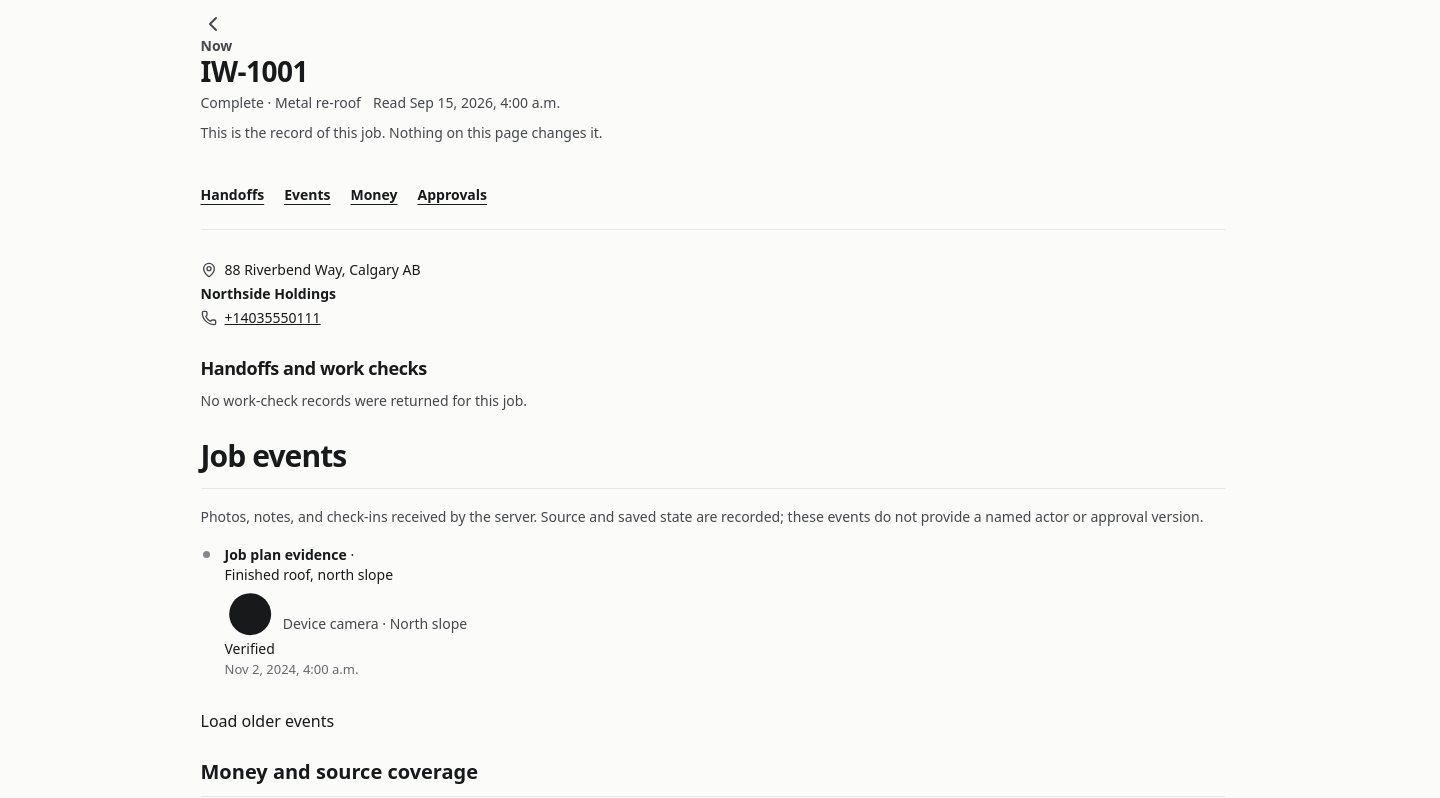
does not splice another job's events into this spine
Click the button "Load older events": (267, 722) [200,710,334,734]
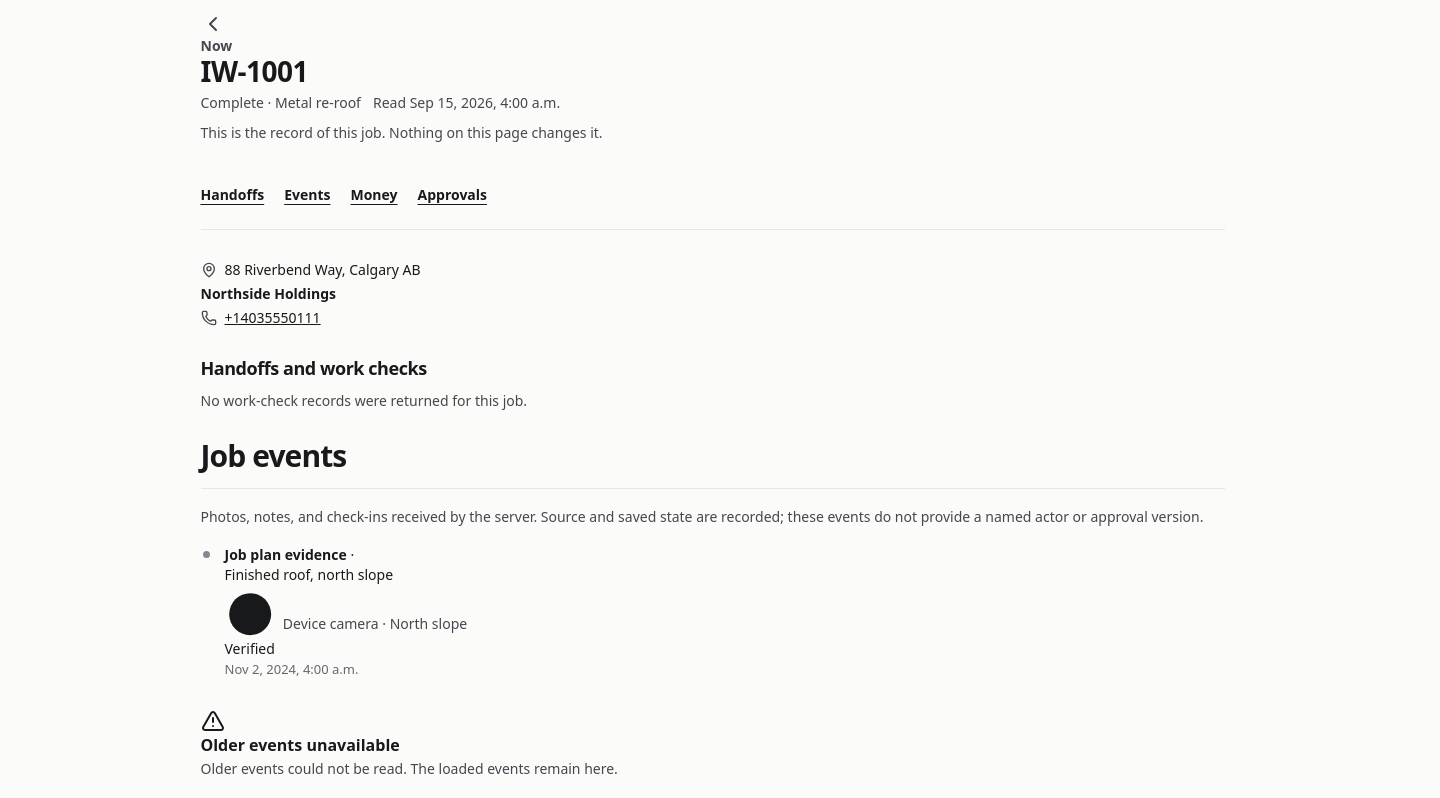
expect the text "Older events unavailable" is shown: met, box [200,734,400,756]
